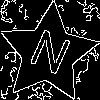N: (23, 28, 74, 85)
